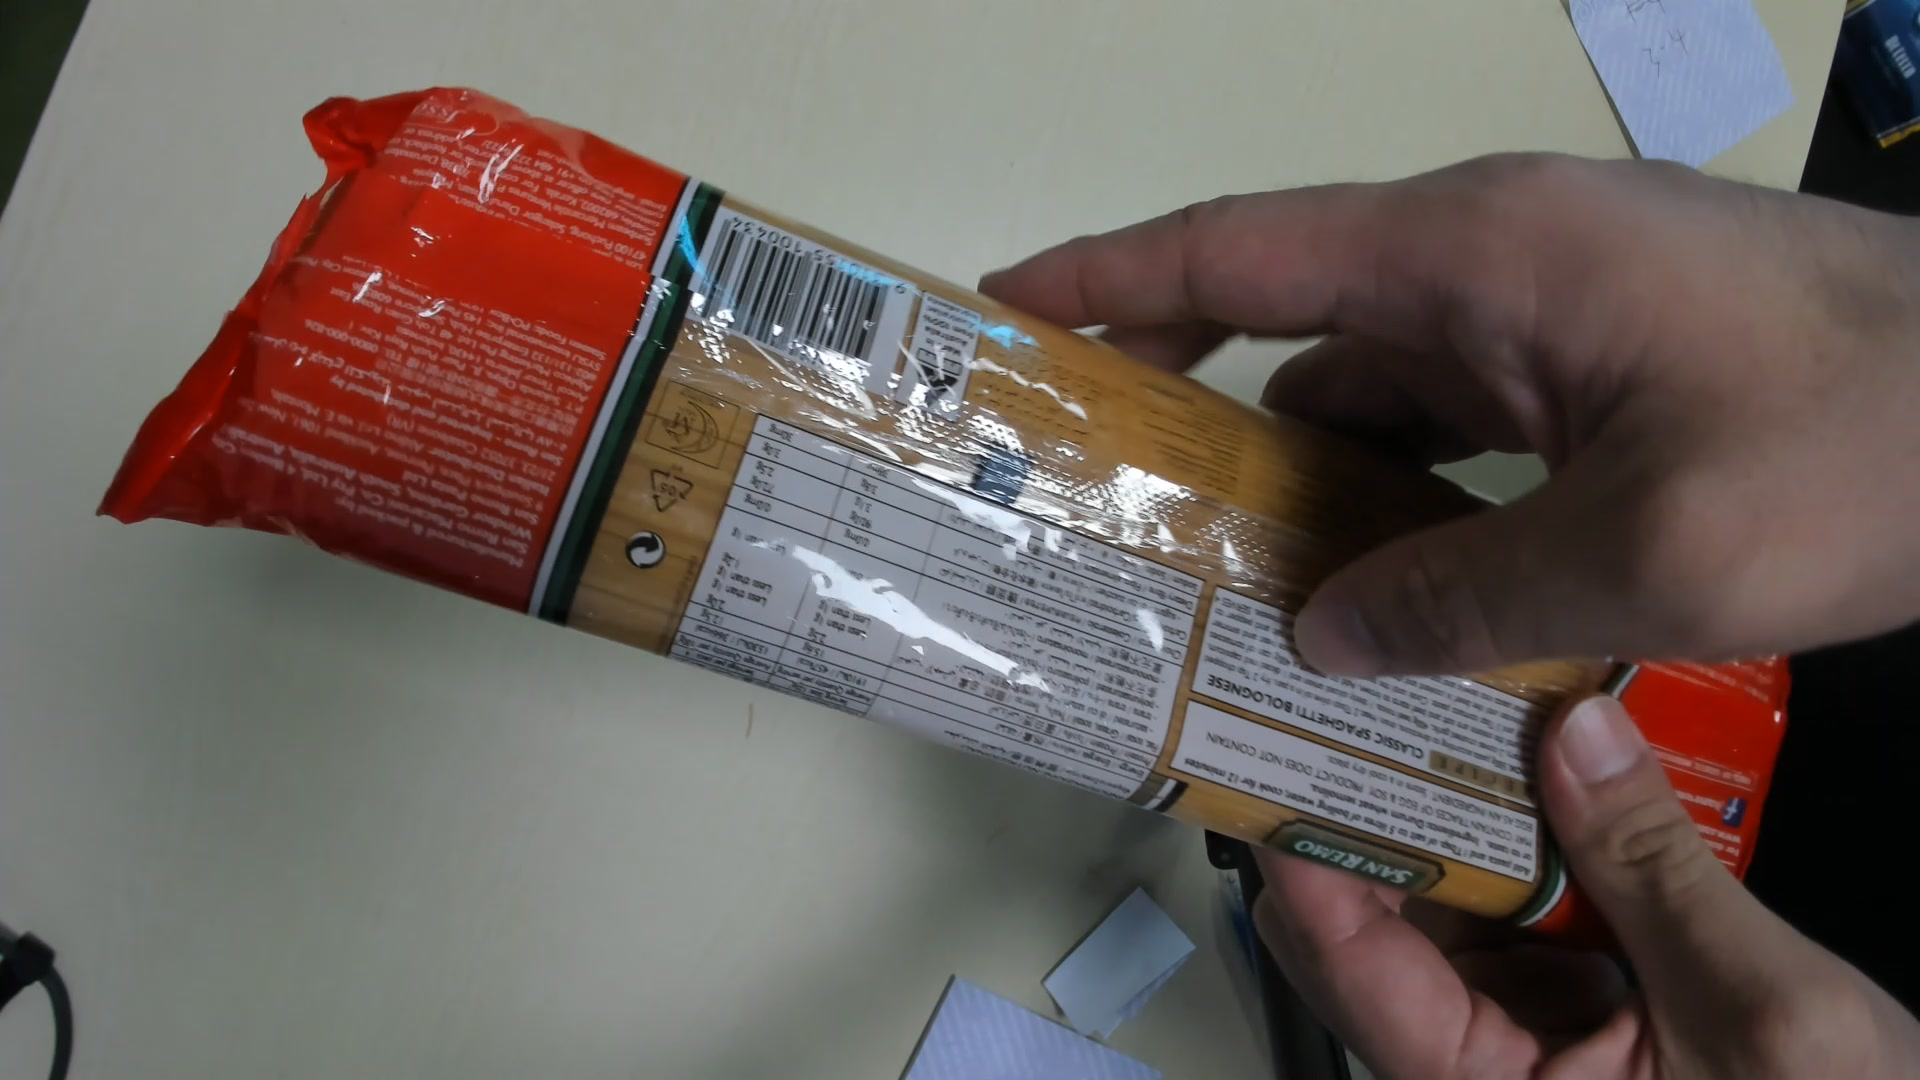Pasta_500-599g_Halal_NonHealthy: (99, 95, 1800, 949)
